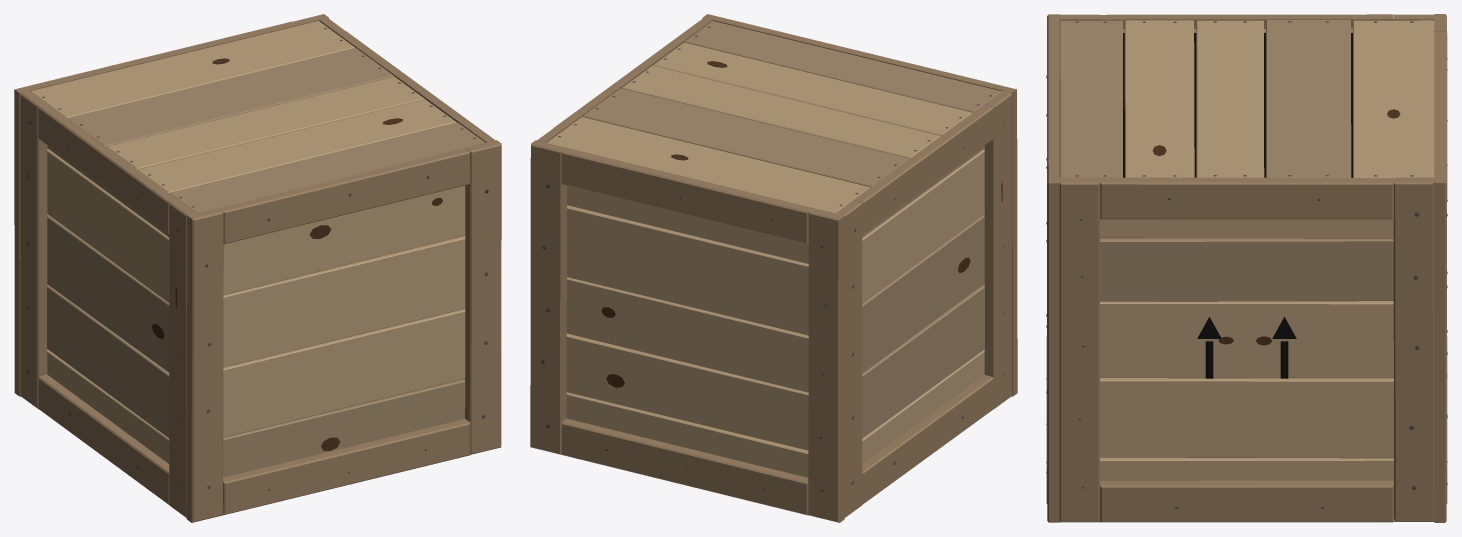
Rendered from crate_a.glb.
3 renders of one model, left to right at view 1: azimuth 30°, elevation 25°; view 2: azimuth 150°, elevation 25°; view 3: azimuth 270°, elevation 25°, orthographic. The views are drawn at different scales.
Visible parts, largest first — view 1: kiste; view 2: kiste; view 3: kiste.
Part boxes in pixels (left/top/right/bottom): kiste: left=14, top=14, right=501, bottom=522; kiste: left=530, top=14, right=1017, bottom=522; kiste: left=1046, top=14, right=1447, bottom=522.
Size of the model in its own units: 0.6426 by 0.6015 by 0.6426.
